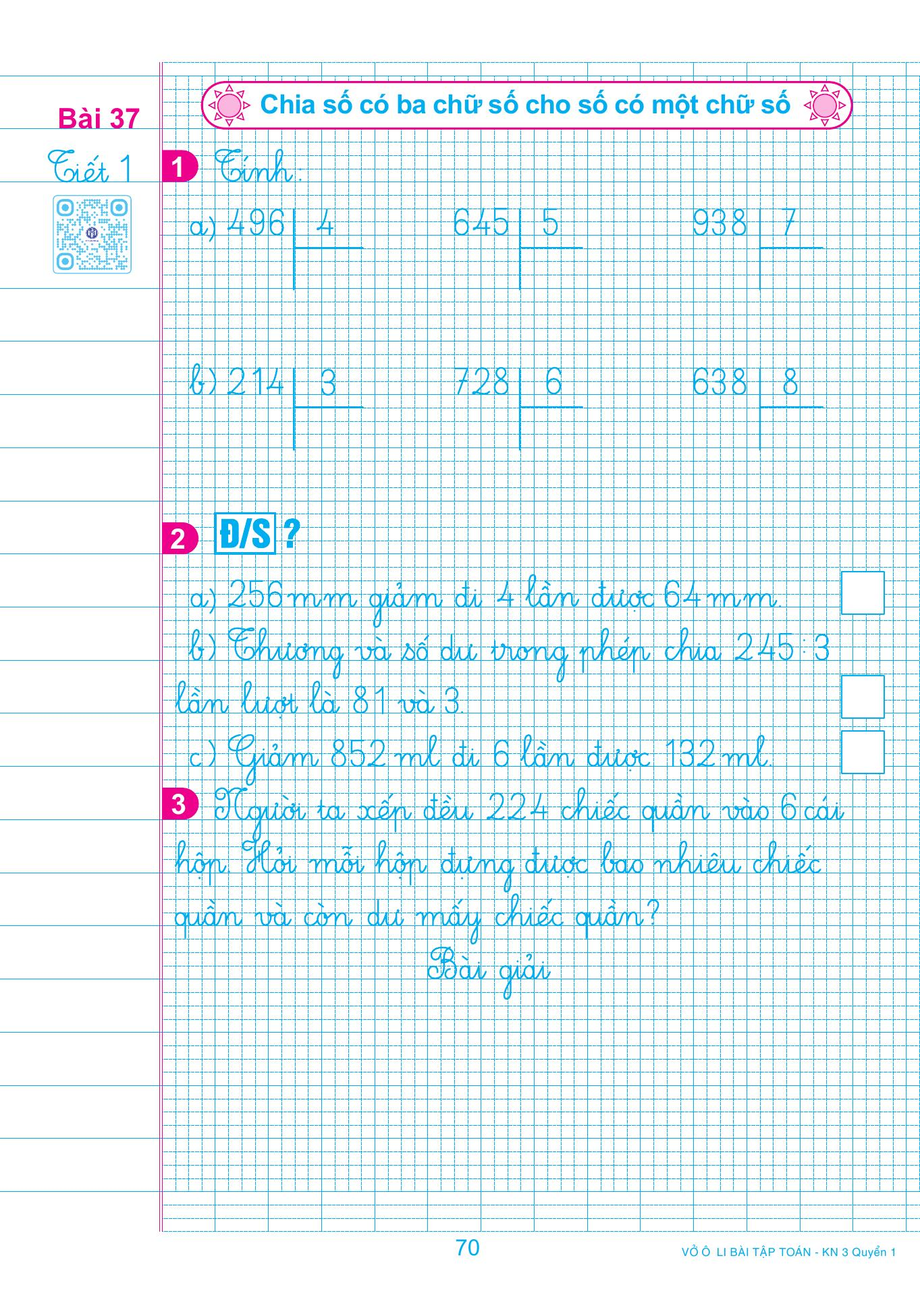None: (156, 501, 920, 782), (161, 76, 920, 128)
Tự luận: (154, 785, 917, 1192)
Điền từ: (157, 127, 920, 507)
